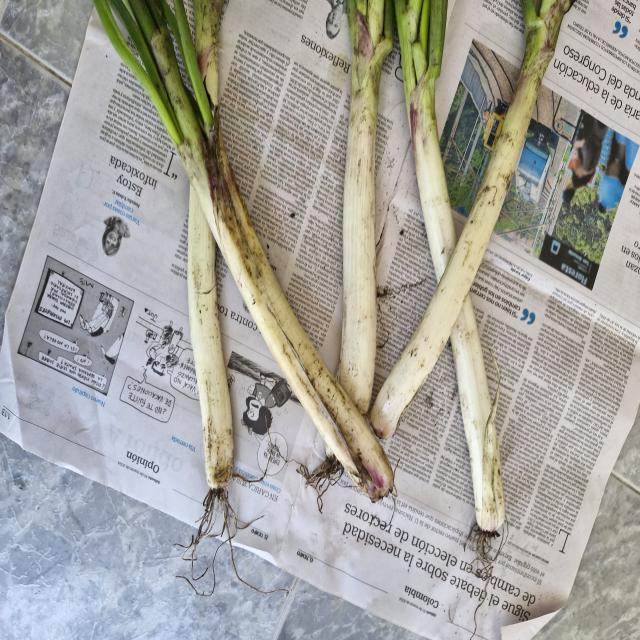green_onion: (368, 0, 640, 446)
